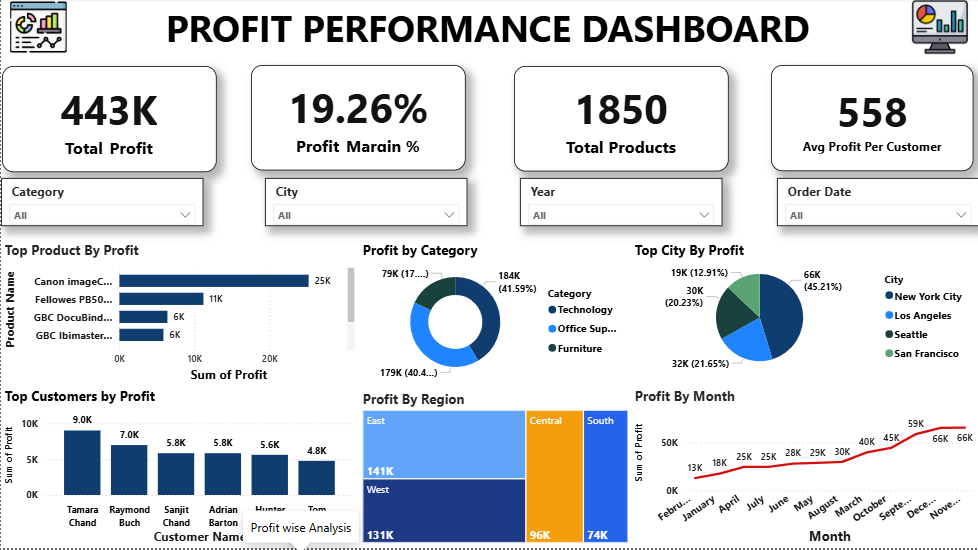

This screenshot's page, from the dashboard's own definition file:
{"tool":"powerbi","page":{"name":"Profit wise Analysis","canvas":[1280,720],"ordinal":2},"visuals":[{"type":"columnChart","title":"Top Customers by Profit","fields":{"Category":["Sheet1.Customer Name"],"Y":["Sum(Superstore_Analysis.Profit)"]},"box":[0,508.3,468,211.7],"z":0},{"type":"treemap","title":"Profit By Region","fields":{"Group":["Region.Region"],"Values":["Sum(Superstore_Analysis.Profit)"]},"box":[468,511.2,357.1,205.9],"z":1000},{"type":"pieChart","title":"Top City By Profit","fields":{"Category":["City.City"],"Y":["Sum(Superstore_Analysis.Profit)"]},"box":[825.1,316.8,447.8,180],"z":2000},{"type":"barChart","title":"Top Product By Profit","fields":{"Category":["Superstore_Analysis.Product Name"],"Y":["Sum(Superstore_Analysis.Profit)"]},"box":[0,316.8,468,191.5],"z":3000},{"type":"lineChart","title":"Profit By Month","fields":{"Category":["Superstore_Analysis.Month"],"Y":["Sum(Superstore_Analysis.Profit)"]},"box":[825.1,508.3,455,211.7],"z":4000},{"type":"donutChart","title":"Profit by Category","fields":{"Category":["Category.Category"],"Y":["Sum(Superstore_Analysis.Profit)"]},"box":[468,316.8,357.1,191.5],"z":5000},{"type":"cardVisual","fields":{"Data":["Superstore_Analysis.Total_Profit"]},"box":[1.7,89,280.5,139.4],"z":6000},{"type":"cardVisual","fields":{"Data":["Superstore_Analysis.Profit_Margin %"]},"box":[327.6,87.3,280.5,137.7],"z":7000},{"type":"cardVisual","fields":{"Data":["Count(Superstore_Analysis.Product Name)"]},"box":[671.9,89,280.5,137.7],"z":8000},{"type":"cardVisual","fields":{"Data":["Superstore_Analysis.Average_Profit_Per_Customer"]},"box":[1007.9,87.3,265.4,139.4],"z":9000},{"type":"textbox","box":[1.7,0,1271.6,75.6],"z":10000},{"type":"image","box":[1177.9,0,102.1,75.7],"z":11000},{"type":"image","box":[0,0,98.6,75.7],"z":12000},{"type":"slicer","fields":{"Values":["City.City"]},"box":[345.6,236.2,265,63.4],"z":13000},{"type":"slicer","fields":{"Values":["Superstore_Analysis.Year"]},"box":[679.7,236.2,265,63.4],"z":14000},{"type":"slicer","fields":{"Values":["Superstore_Analysis.Order Date"]},"box":[1015.2,236.2,265,63.4],"z":15000},{"type":"slicer","fields":{"Values":["Category.Category"]},"box":[0,236.2,265,63.4],"z":16000}]}

Visuals, with their boxes in screenshot pixels (x1, y1, x2, y2), scaled from the page's 1280x720 canvas onto the 978x550 screenshot:
"Top Customers by Profit" columnChart: 0/388/358/549
"Profit By Region" treemap: 358/390/630/548
"Top City By Profit" pieChart: 630/242/973/380
"Top Product By Profit" barChart: 0/242/358/388
"Profit By Month" lineChart: 630/388/977/549
"Profit by Category" donutChart: 358/242/630/388
cardVisual - Superstore_Analysis.Total_Profit: 1/68/216/174
cardVisual - Superstore_Analysis.Profit_Margin %: 250/67/465/172
cardVisual - Count(Superstore_Analysis.Product Name): 513/68/728/173
cardVisual - Superstore_Analysis.Average_Profit_Per_Customer: 770/67/973/173
textbox: 1/0/973/58
image: 900/0/977/58
image: 0/0/75/58
slicer - City.City: 264/180/467/229
slicer - Superstore_Analysis.Year: 519/180/722/229
slicer - Superstore_Analysis.Order Date: 776/180/977/229
slicer - Category.Category: 0/180/202/229
